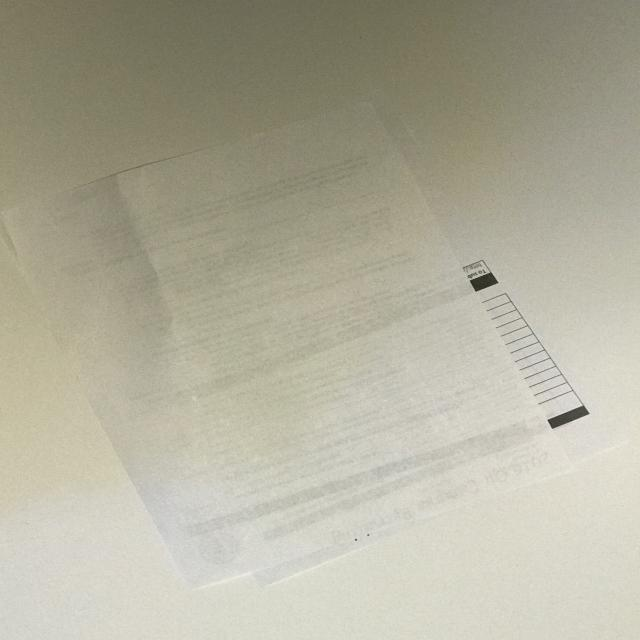Paper: (20, 95, 639, 608)
